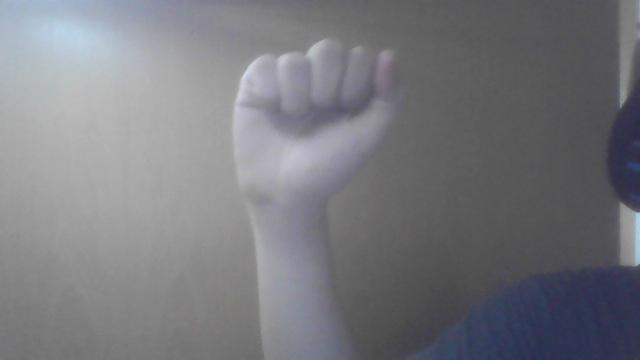forward: (231, 36, 405, 210)
